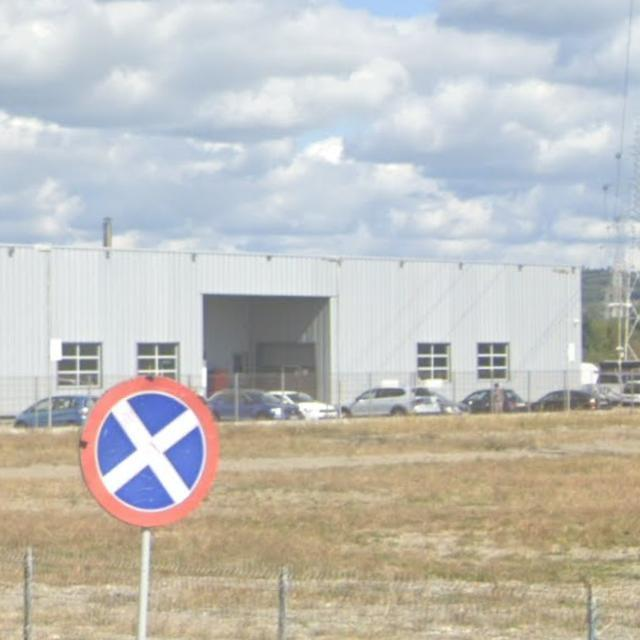forb_waiting: (78, 370, 223, 529)
